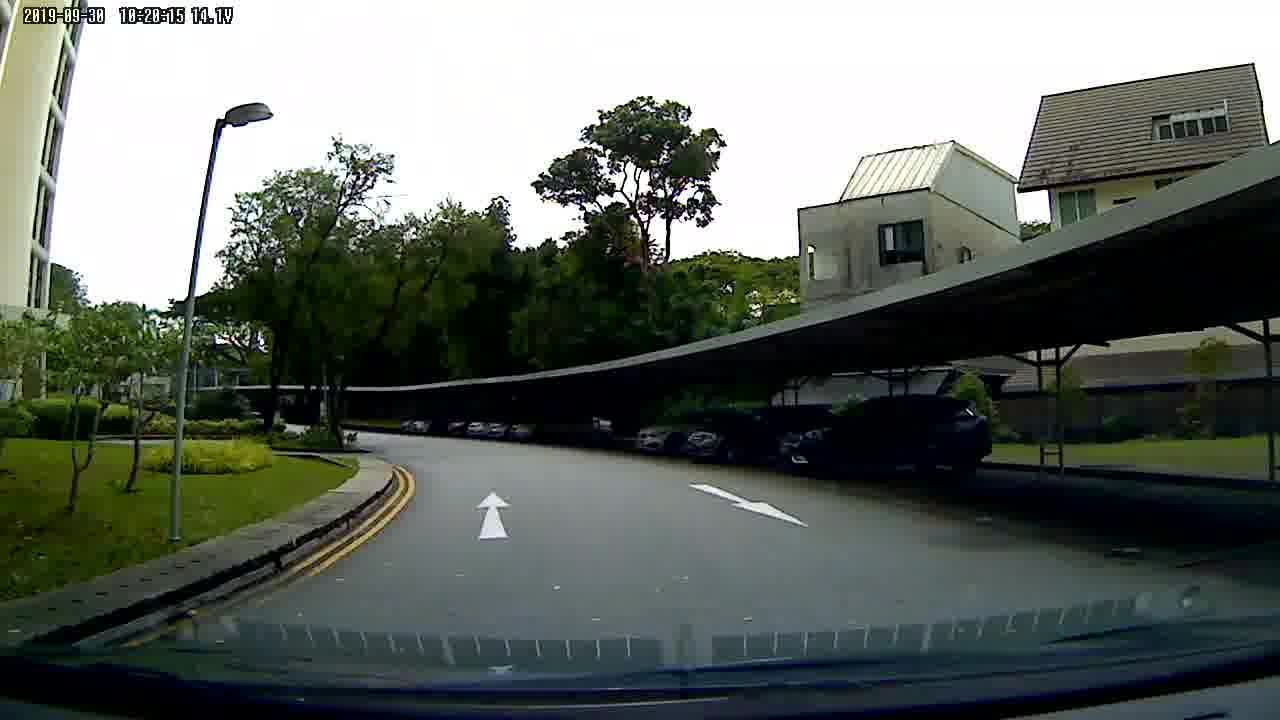car: (774, 394, 999, 491)
